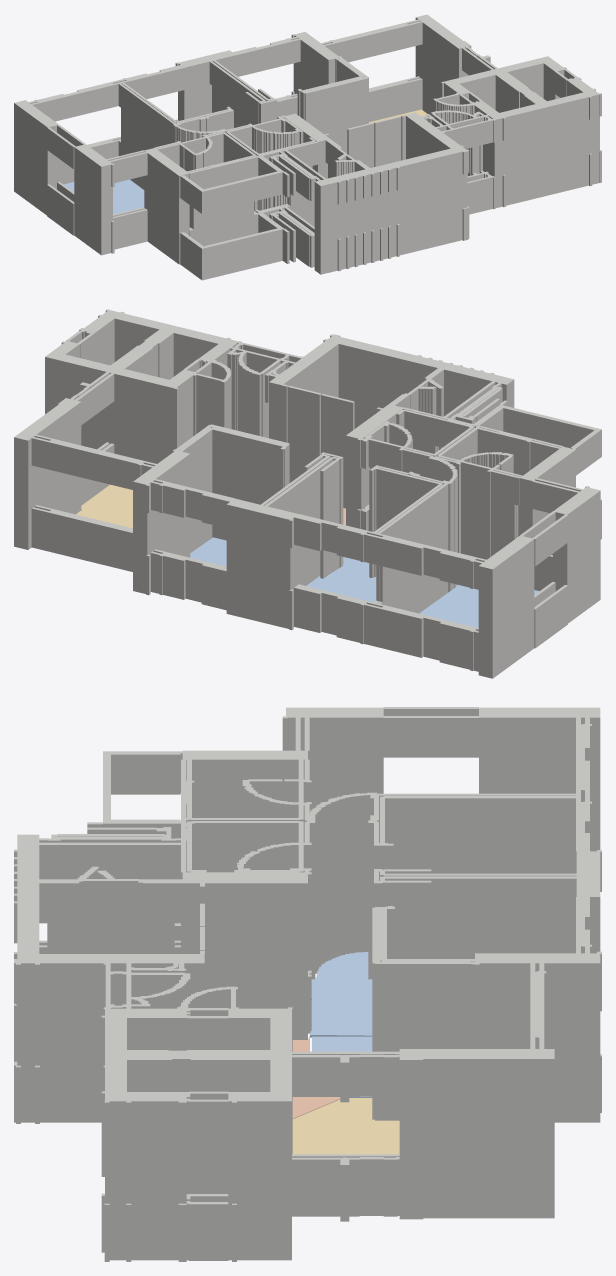
3 renders of one model, top to bottom at view 1: azimuth 30°, elevation 25°; view 2: azimuth 150°, elevation 25°; view 3: azimuth 270°, elevation 25°, orthographic. The views are drawn at different scales.
Parts seen in each view (by area): view 1: walls, room:bedroom:0; view 2: walls, room:bedroom:1, room:living:2, room:bedroom:0, room:bedroom:5; view 3: walls, room:living:2, room:bedroom:1, room:bedroom:5, room:kitchen:10.
Boxes of the visible parts, left/top/right/bottom form: walls: left=14, top=14, right=601, bottom=280; room:bedroom:0: left=63, top=179, right=144, bottom=214; walls: left=14, top=309, right=601, bottom=678; room:bedroom:1: left=306, top=557, right=376, bottom=602; room:living:2: left=76, top=484, right=132, bottom=528; room:bedroom:0: left=419, top=584, right=539, bottom=627; room:bedroom:5: left=190, top=537, right=226, bottom=566; walls: left=14, top=707, right=601, bottom=1261; room:living:2: left=292, top=1098, right=399, bottom=1154; room:bedroom:1: left=310, top=952, right=372, bottom=1037; room:bedroom:5: left=312, top=1036, right=372, bottom=1097; room:kitchen:10: left=292, top=1036, right=340, bottom=1118.
Bounding box in the file's own units: 14.91 × 2.8 × 9.37.
